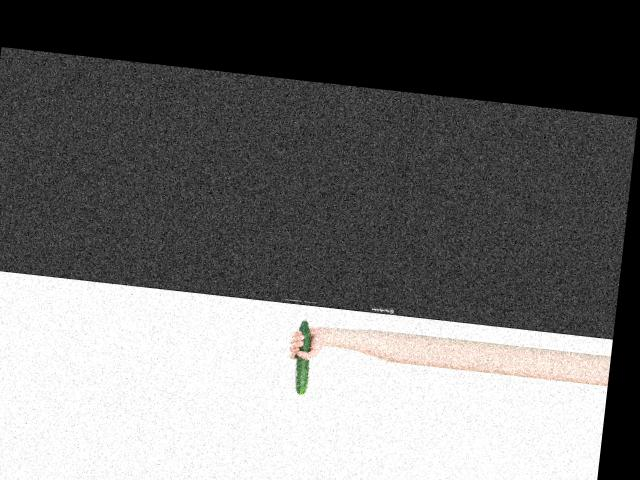cucumber: (291, 318, 314, 394)
